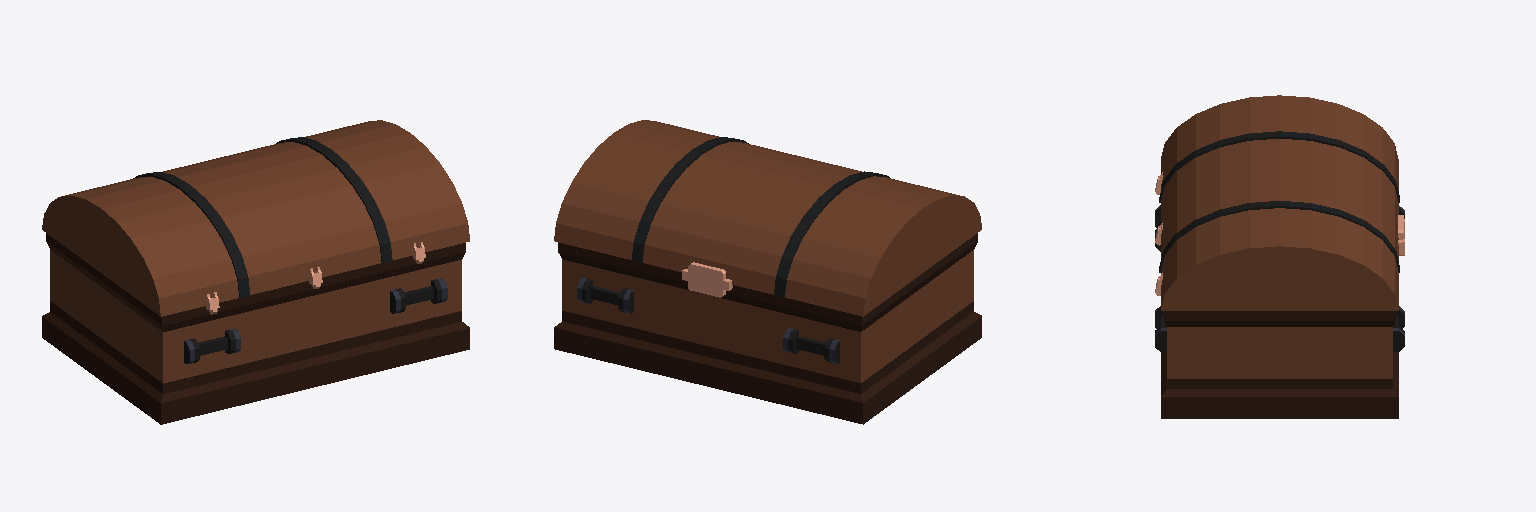
The model's file is chest.obj.
3 views of the same model, side by side, from view 1: azimuth 30°, elevation 25°; view 2: azimuth 150°, elevation 25°; view 3: azimuth 270°, elevation 25° (orthographic).
Visible parts, largest first — view 1: mergedBlocks; view 2: mergedBlocks; view 3: mergedBlocks.
Part boxes in pixels (x1,y1,x2,y2): mergedBlocks: (42, 120, 469, 424); mergedBlocks: (554, 120, 981, 424); mergedBlocks: (1155, 95, 1404, 418).
Size of the model in its own units: 3 by 1.62 by 2.1.